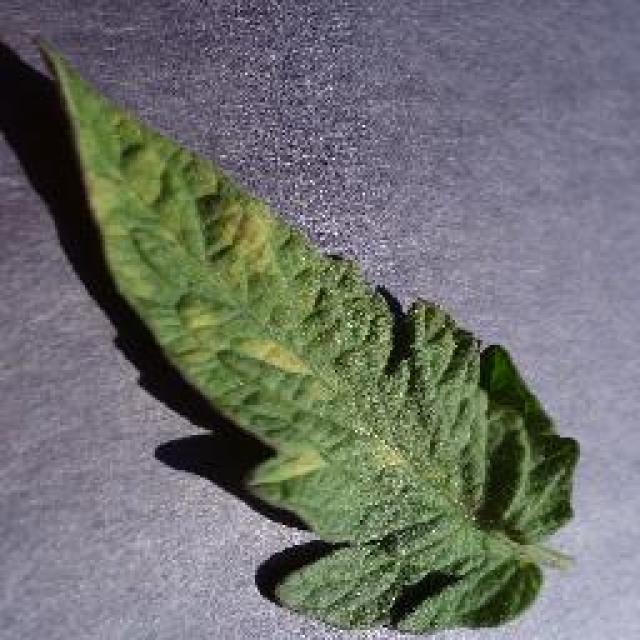Tomato___Leaf_Mold: (50, 52, 578, 632)
